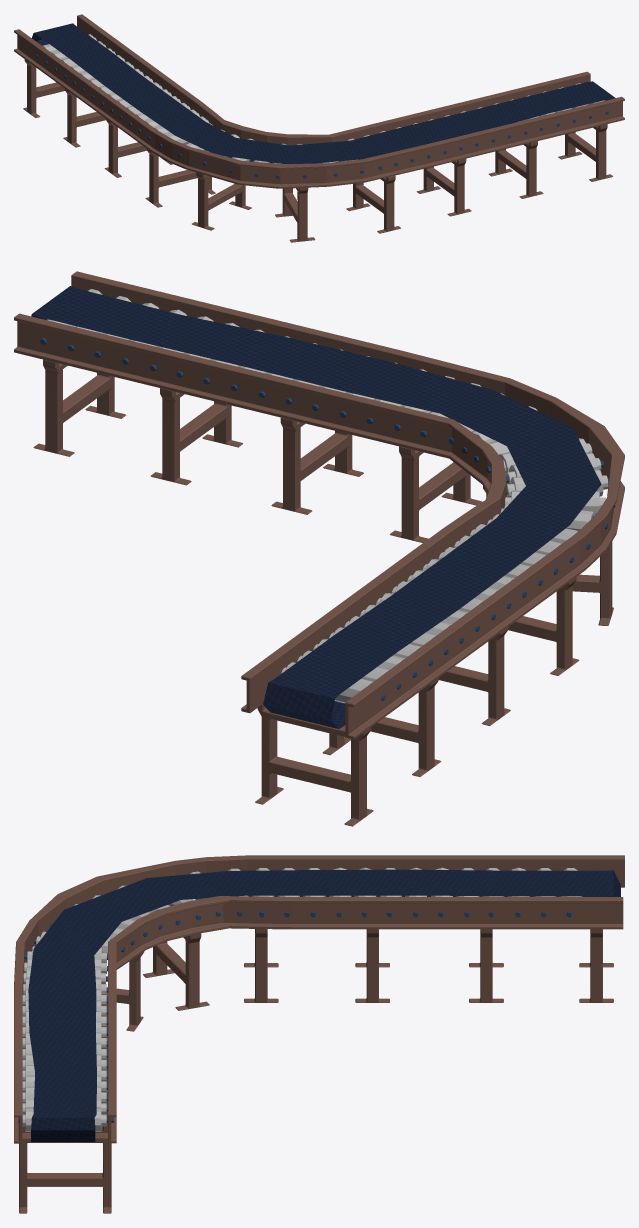
Rendered from ConveyerBelt_Curved.fbx.
3 renders of one model, top to bottom at view 1: azimuth 30°, elevation 25°; view 2: azimuth 150°, elevation 25°; view 3: azimuth 270°, elevation 25°, orthographic. The views are drawn at different scales.
Visible parts, largest first — view 1: polySurface410_polySurface603; view 2: polySurface410_polySurface603; view 3: polySurface410_polySurface603.
Part boxes in pixels (x1=…): polySurface410_polySurface603: x1=14, y1=14, x2=624, y2=242; polySurface410_polySurface603: x1=14, y1=271, x2=624, y2=826; polySurface410_polySurface603: x1=14, y1=855, x2=624, y2=1213.
Bounding box in the file's own units: 1921 × 365 × 1911.
